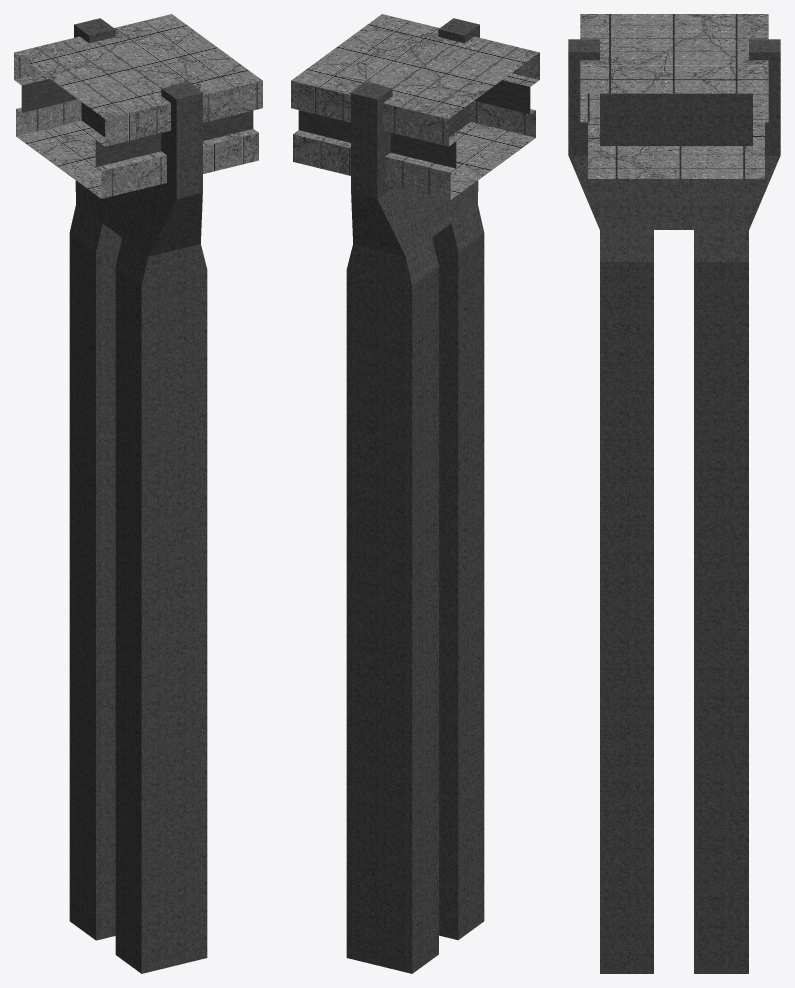
File: MegaBridge1.fbx
The picture shows the model from 3 angles, left to right: view 1: azimuth 30°, elevation 25°; view 2: azimuth 150°, elevation 25°; view 3: azimuth 270°, elevation 25°; orthographic projection. The views are drawn at different scales.
Visible parts, largest first — view 1: Cube.001, Cube; view 2: Cube.001, Cube; view 3: Cube.001, Cube.
Part boxes in pixels (x1,y1,x2,y2): Cube.001: [69, 18, 207, 973]; Cube: [14, 14, 262, 198]; Cube.001: [346, 18, 484, 973]; Cube: [291, 14, 539, 200]; Cube.001: [568, 39, 780, 973]; Cube: [580, 14, 768, 178].
Size of the model in its own units: 1200 by 6400 by 1350.
